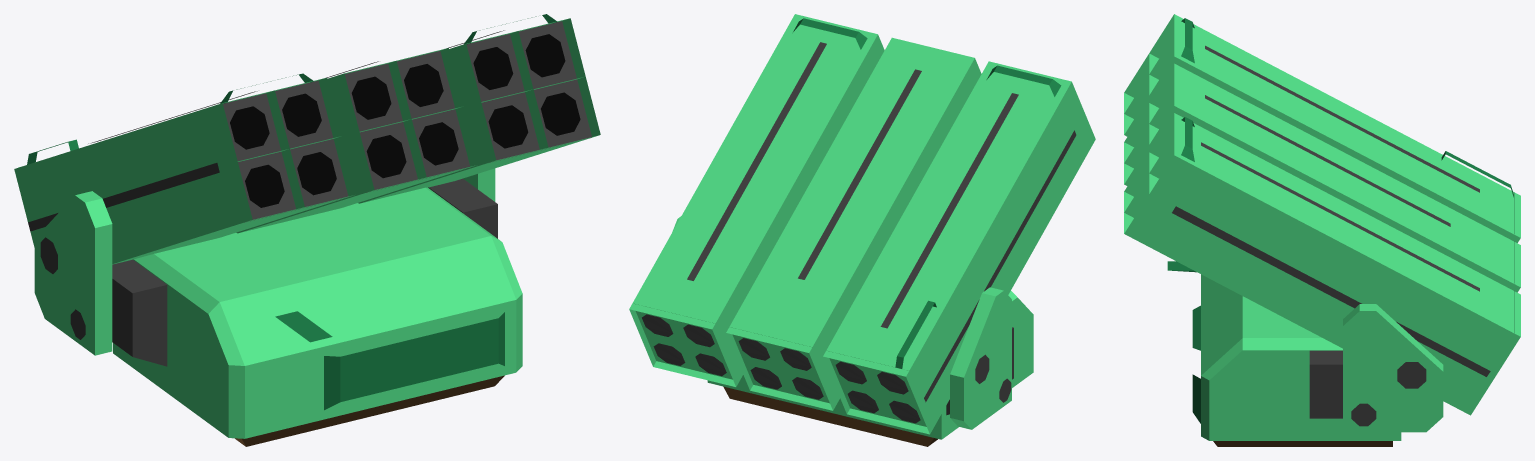
File: launcher.FBX
The picture shows the model from 3 angles, left to right: view 1: azimuth 30°, elevation 25°; view 2: azimuth 150°, elevation 25°; view 3: azimuth 270°, elevation 25°; orthographic projection. The views are drawn at different scales.
Visible parts, largest first — view 1: VIFS002, VIFS004, VIFS005, VIFS003, VIFS001; view 2: VIFS002, VIFS004, VIFS001, VIFS003; view 3: VIFS002, VIFS004, VIFS003, VIFS001.
Boxes of the visible parts, x1,y1,x2,y2 form: VIFS002: [14, 18, 600, 438]; VIFS004: [28, 21, 591, 366]; VIFS005: [230, 34, 580, 207]; VIFS003: [27, 14, 557, 410]; VIFS001: [235, 375, 504, 446]; VIFS002: [629, 14, 1095, 439]; VIFS004: [642, 42, 1076, 423]; VIFS001: [723, 386, 937, 446]; VIFS003: [793, 18, 1061, 368]; VIFS002: [1124, 14, 1520, 440]; VIFS004: [1172, 45, 1490, 426]; VIFS003: [1167, 18, 1514, 423]; VIFS001: [1213, 441, 1392, 446].
Bounding box in the file's own units: 0.47 × 0.416 × 0.475.
